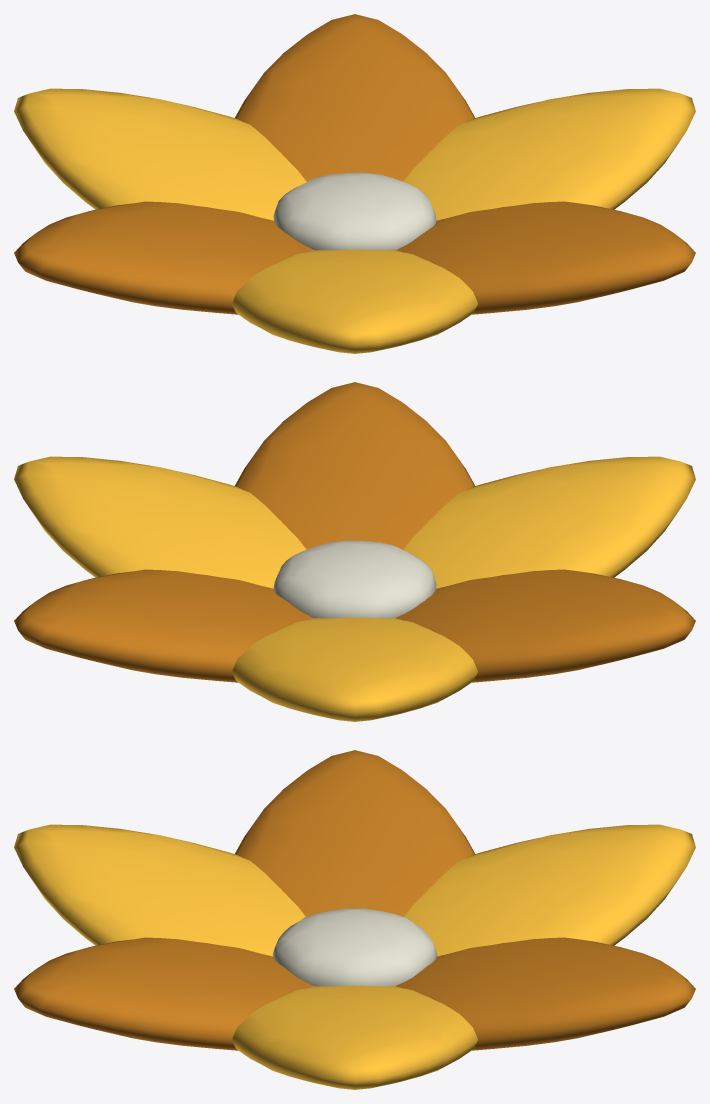
Rendered from SM_Blume_02.fbx.
The picture shows the model from 3 angles, top to bottom: view 1: azimuth 30°, elevation 25°; view 2: azimuth 150°, elevation 25°; view 3: azimuth 270°, elevation 25°; orthographic projection.
Parts seen in each view (by area): view 1: Blume_02.001; view 2: Blume_02.001; view 3: Blume_02.001.
Part boxes in pixels (x1,y1,x2,y2): Blume_02.001: (14, 14, 695, 353); Blume_02.001: (14, 382, 695, 721); Blume_02.001: (14, 750, 695, 1089).
Bounding box in the file's own units: 104 × 13.34 × 90.7.
